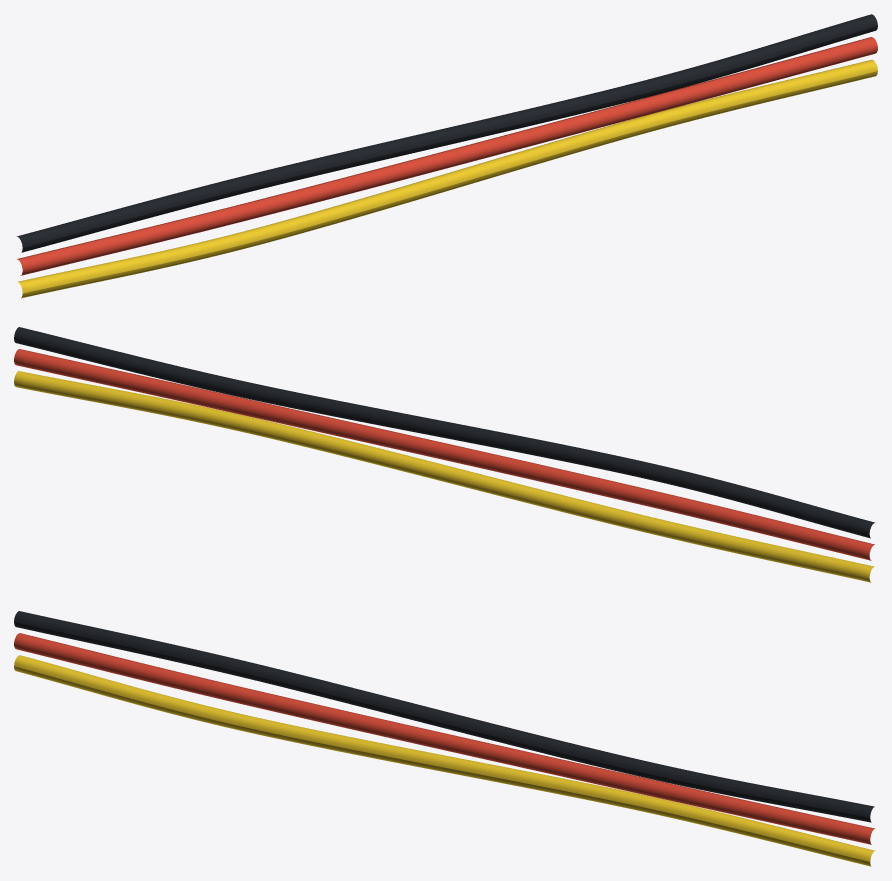
File: motor-to-esc-3x20awg.glb
3 views of the same model, one above another, from view 1: azimuth 30°, elevation 25°; view 2: azimuth 150°, elevation 25°; view 3: azimuth 330°, elevation 25° (orthographic). The views are drawn at different scales.
Visible parts, largest first — view 1: three_phase_20AWG_motor_to_ESC_harness; view 2: three_phase_20AWG_motor_to_ESC_harness; view 3: three_phase_20AWG_motor_to_ESC_harness.
Part boxes in pixels (x1,y1,x2,y2): three_phase_20AWG_motor_to_ESC_harness: (16, 14, 877, 298); three_phase_20AWG_motor_to_ESC_harness: (14, 327, 874, 582); three_phase_20AWG_motor_to_ESC_harness: (14, 611, 875, 866).
Bounding box in the file's own units: 0.072 × 0.00561 × 0.00329.
